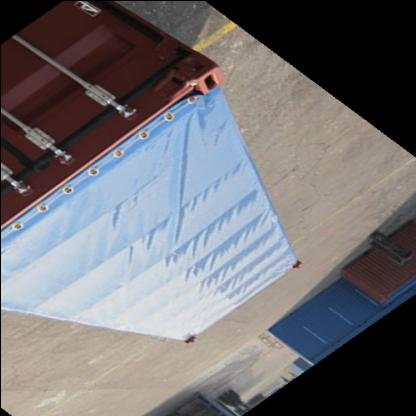Damage: (145, 37, 207, 101), (25, 152, 58, 180)
